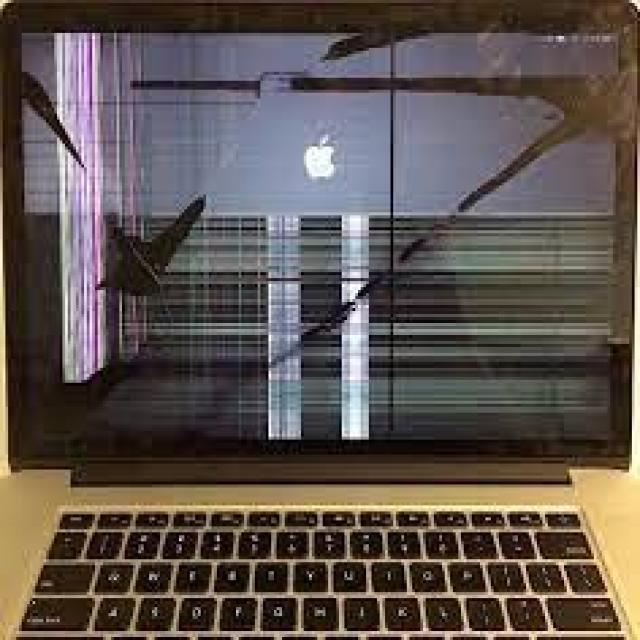Screen cracks: (22, 24, 622, 452)
